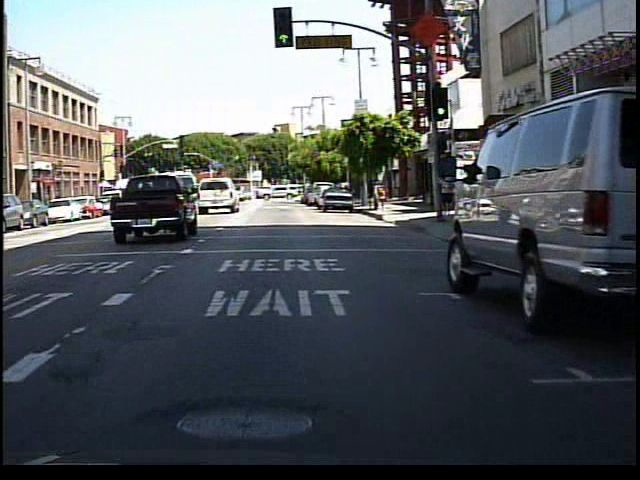person: (437, 166, 460, 224)
